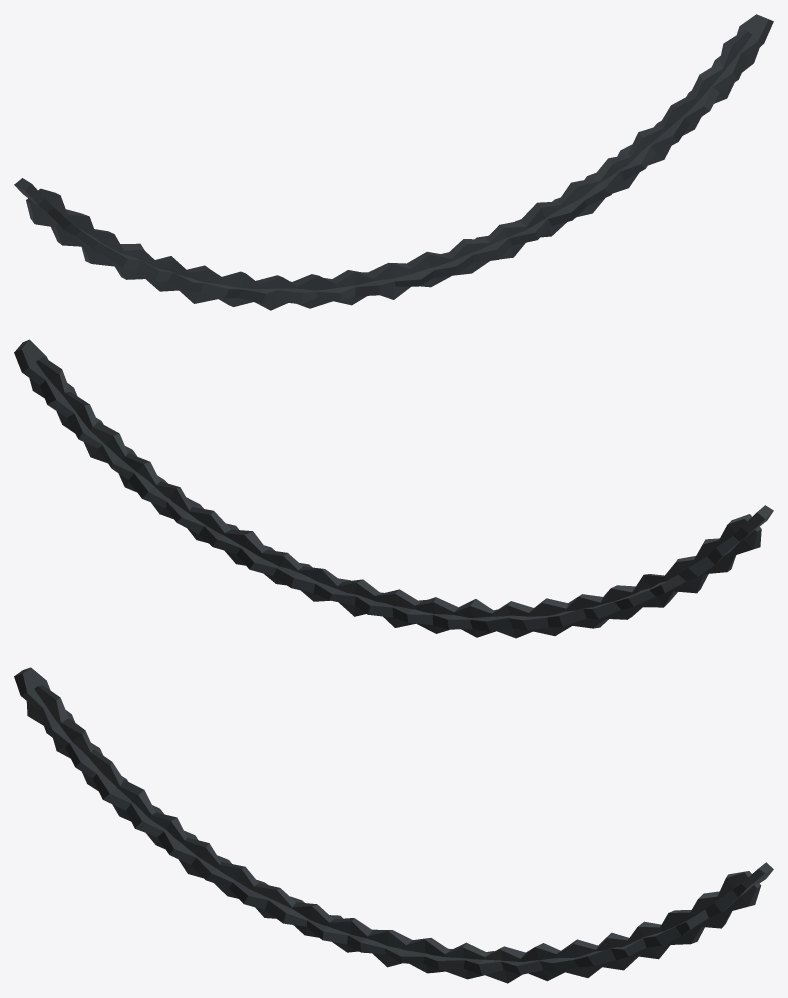
File: SM_Prop_Bollard_Chain_01.fbx
The picture shows the model from 3 angles, top to bottom: view 1: azimuth 30°, elevation 25°; view 2: azimuth 150°, elevation 25°; view 3: azimuth 330°, elevation 25°; orthographic projection.
Visible parts, largest first — view 1: SM_Prop_Bollard_Chain_01; view 2: SM_Prop_Bollard_Chain_01; view 3: SM_Prop_Bollard_Chain_01.
Part boxes in pixels (x1,y1,x2,y2): SM_Prop_Bollard_Chain_01: (14, 14, 773, 310); SM_Prop_Bollard_Chain_01: (14, 339, 773, 638); SM_Prop_Bollard_Chain_01: (14, 667, 773, 983).
Bounding box in the file's own units: 241 × 63.21 × 10.93.
